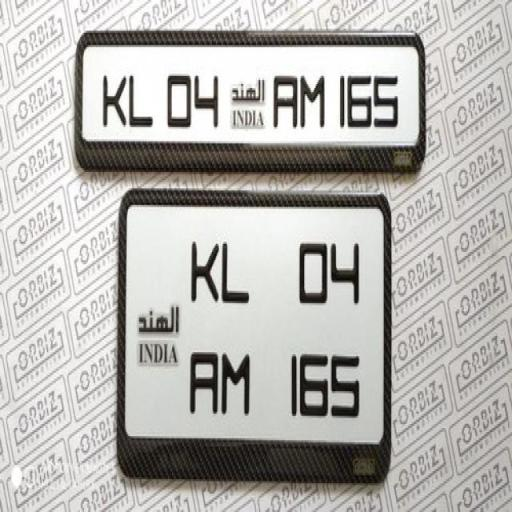number plate: (124, 203, 386, 451), (82, 44, 422, 150)
